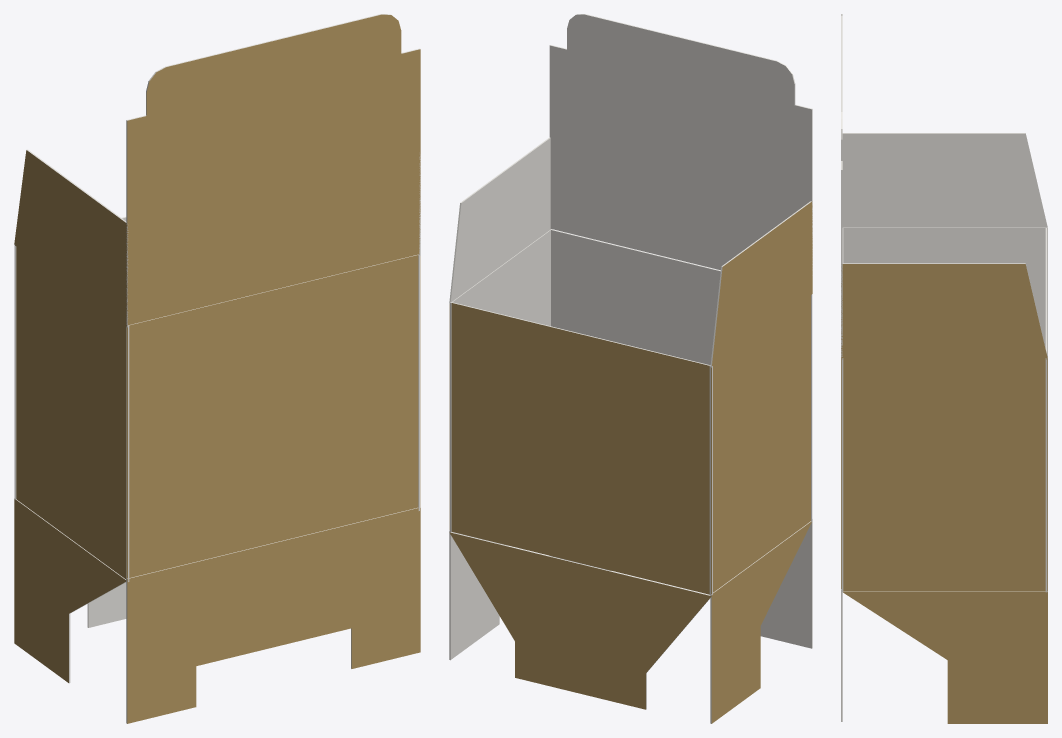
3 renders of one model, left to right at view 1: azimuth 30°, elevation 25°; view 2: azimuth 150°, elevation 25°; view 3: azimuth 270°, elevation 25°, orthographic. The views are drawn at different scales.
Parts seen in each view (by area): view 1: Packive_Box_fefco0215; view 2: Packive_Box_fefco0215; view 3: Packive_Box_fefco0215.
Boxes of the visible parts, x1,y1,x2,y2 form: Packive_Box_fefco0215: (14, 14, 420, 723); Packive_Box_fefco0215: (449, 14, 812, 723); Packive_Box_fefco0215: (841, 14, 1047, 723).
Bounding box in the file's own units: 0.3 × 0.636 × 0.2.
Materials: 26 (13 with a texture image).
